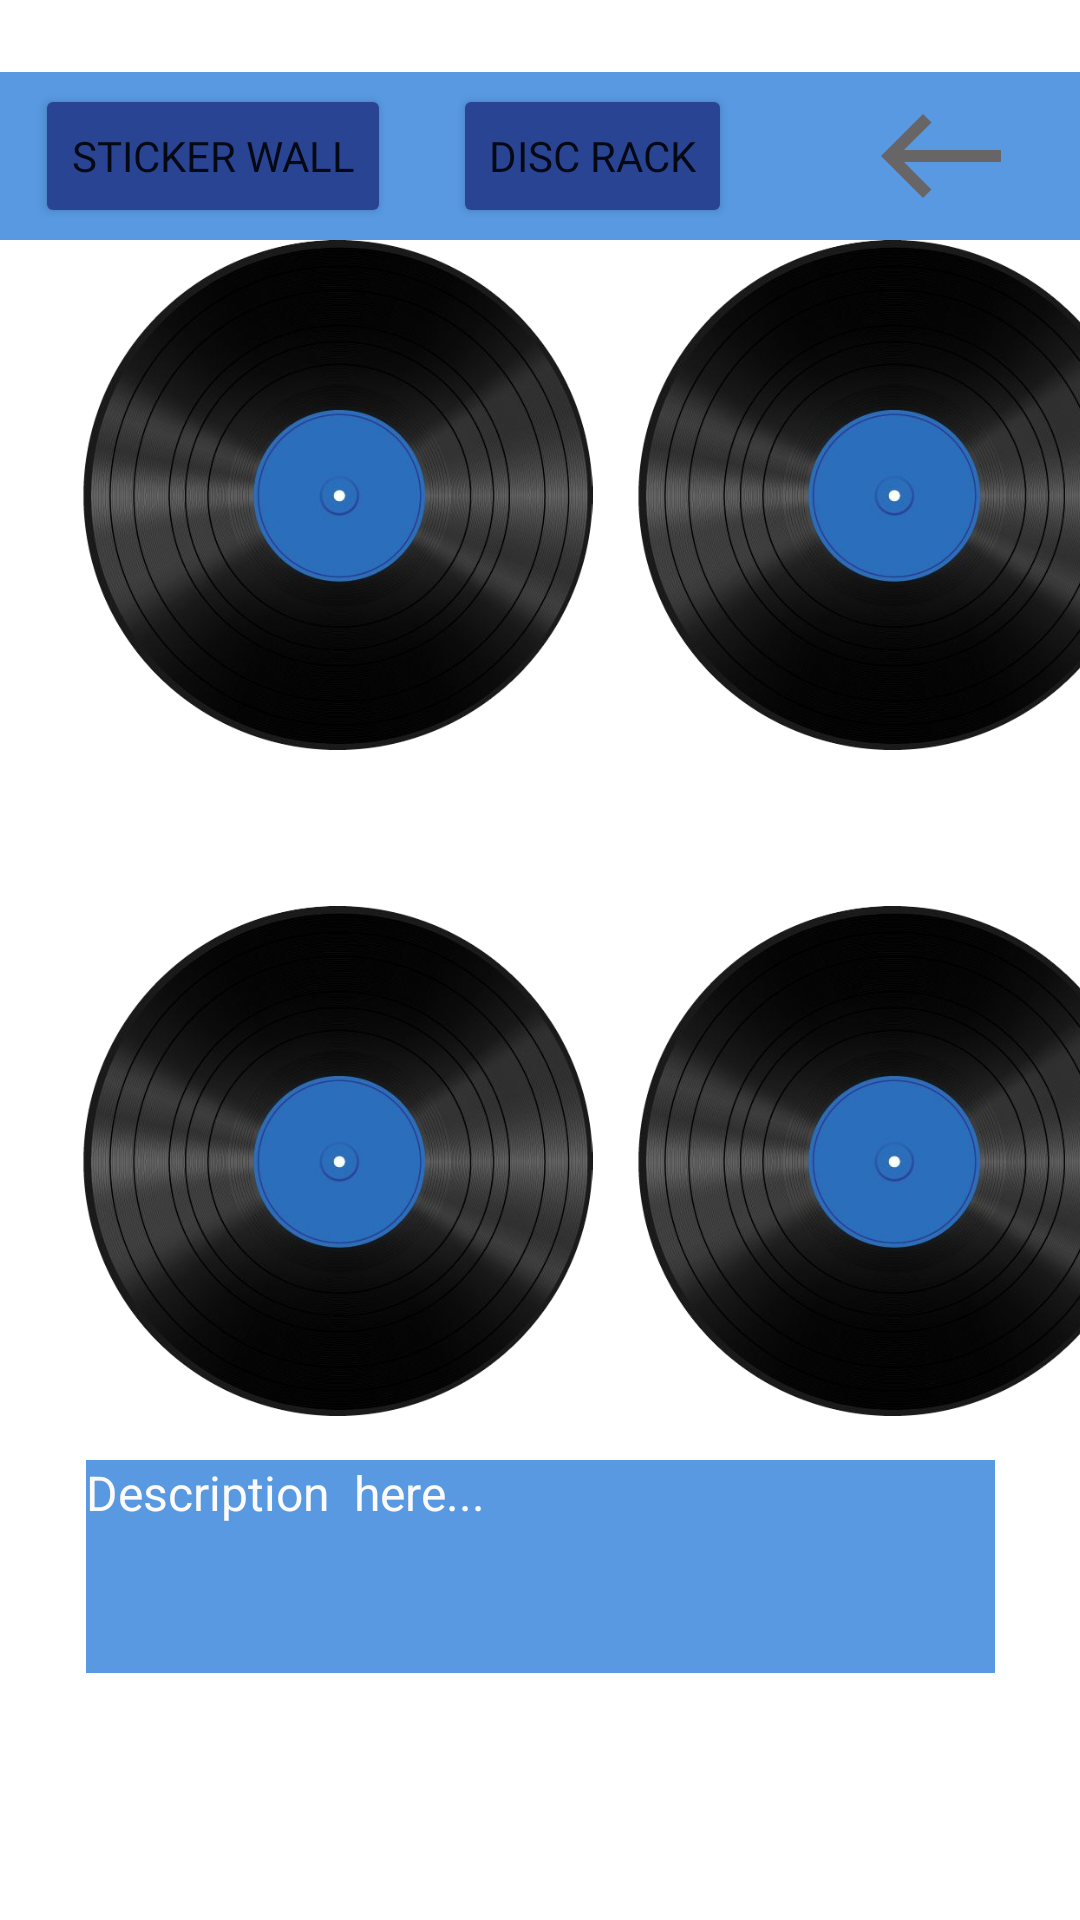

Named icons in this screenshot (1080px×1920px) and their centers, (x=x, y=y):
previous: (x=941, y=156)
